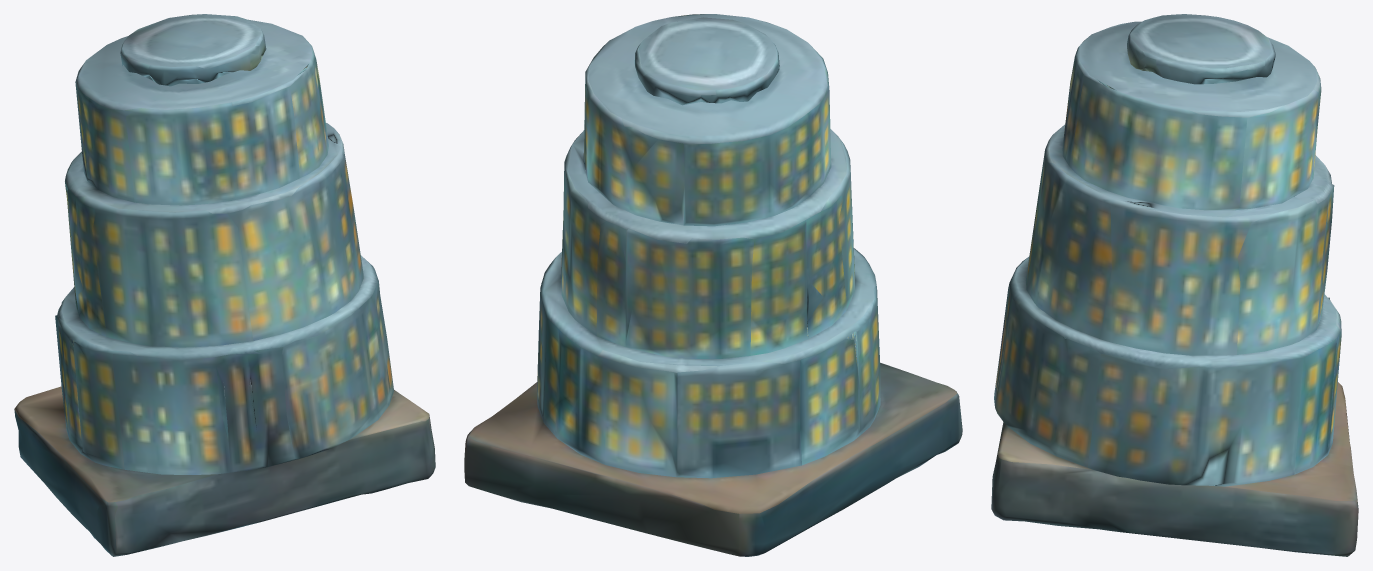
Rendered from tower-c-lite.glb.
3 views of the same model, side by side, from view 1: azimuth 30°, elevation 25°; view 2: azimuth 150°, elevation 25°; view 3: azimuth 270°, elevation 25° (orthographic). The views are drawn at different scales.
Visible parts, largest first — view 1: geometry_0; view 2: geometry_0; view 3: geometry_0.
Part boxes in pixels (x1,y1,x2,y2): geometry_0: (14, 14, 435, 556); geometry_0: (464, 14, 962, 556); geometry_0: (991, 14, 1358, 556).
Bounding box in the file's own units: 0.6398 × 0.7904 × 0.5832.
1 material, 1 textured.
